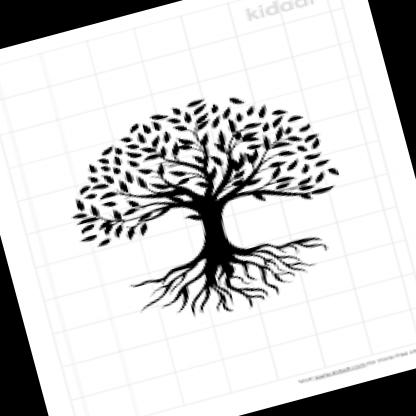root_only: (127, 226, 338, 336)
trunk_straight: (200, 214, 231, 244)
